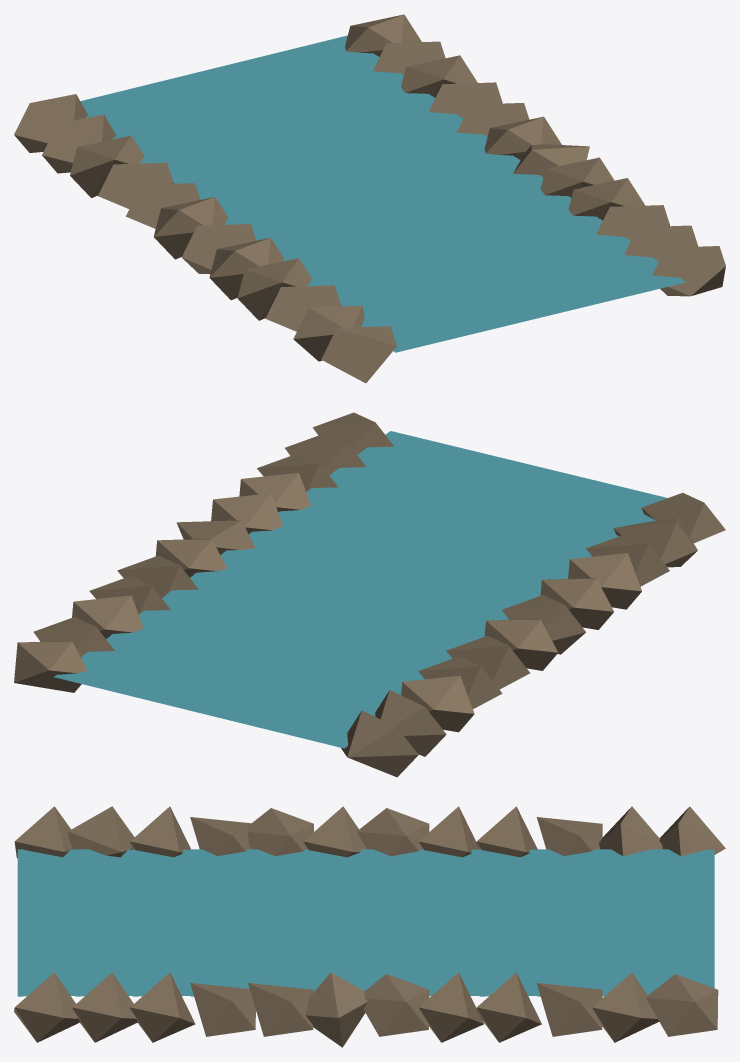
File: landscape-river.lod2.glb
3 renders of one model, top to bottom at view 1: azimuth 30°, elevation 25°; view 2: azimuth 150°, elevation 25°; view 3: azimuth 270°, elevation 25°, orthographic. The views are drawn at different scales.
Parts seen in each view (by area): view 1: landscape-river__body; view 2: landscape-river__body; view 3: landscape-river__body.
Boxes of the visible parts, left/top/right/bottom form: landscape-river__body: left=14, top=14, right=725, bottom=383; landscape-river__body: left=14, top=412, right=725, bottom=777; landscape-river__body: left=14, top=806, right=725, bottom=1047.
Size of the model in its own units: 4.23 by 0.5566 by 6.16.
